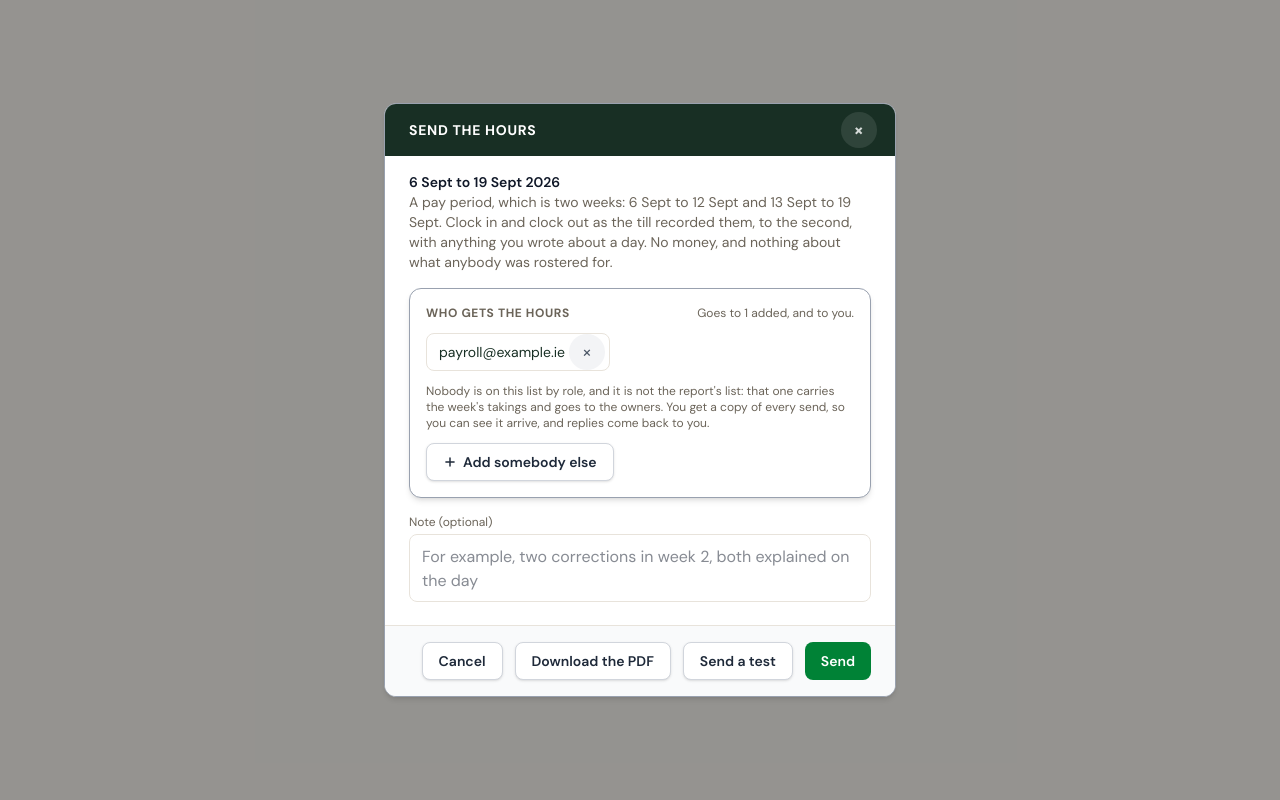
Test: keeping the list › shuts only the address box on Escape
Step 1. Click the button "Add somebody else" → (520, 462), box [426, 443, 614, 481]
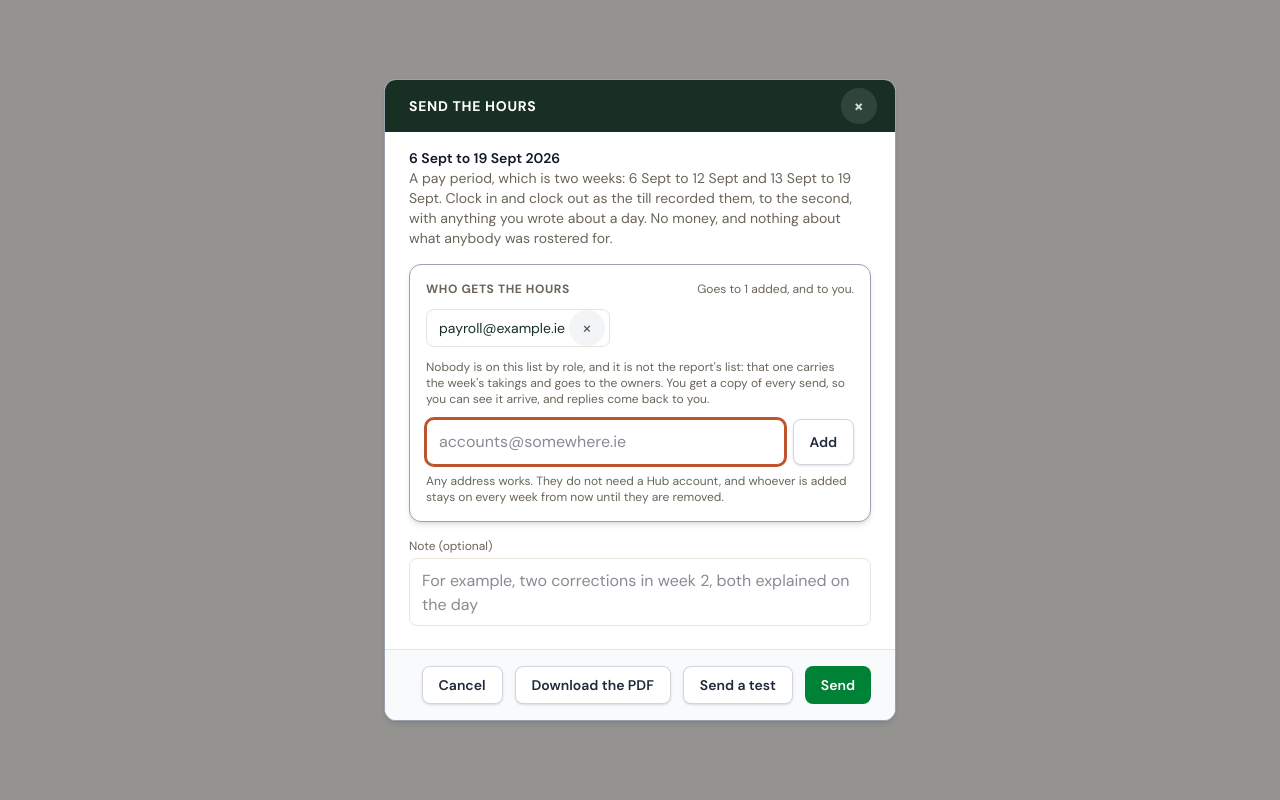
Step 2. Press Escape
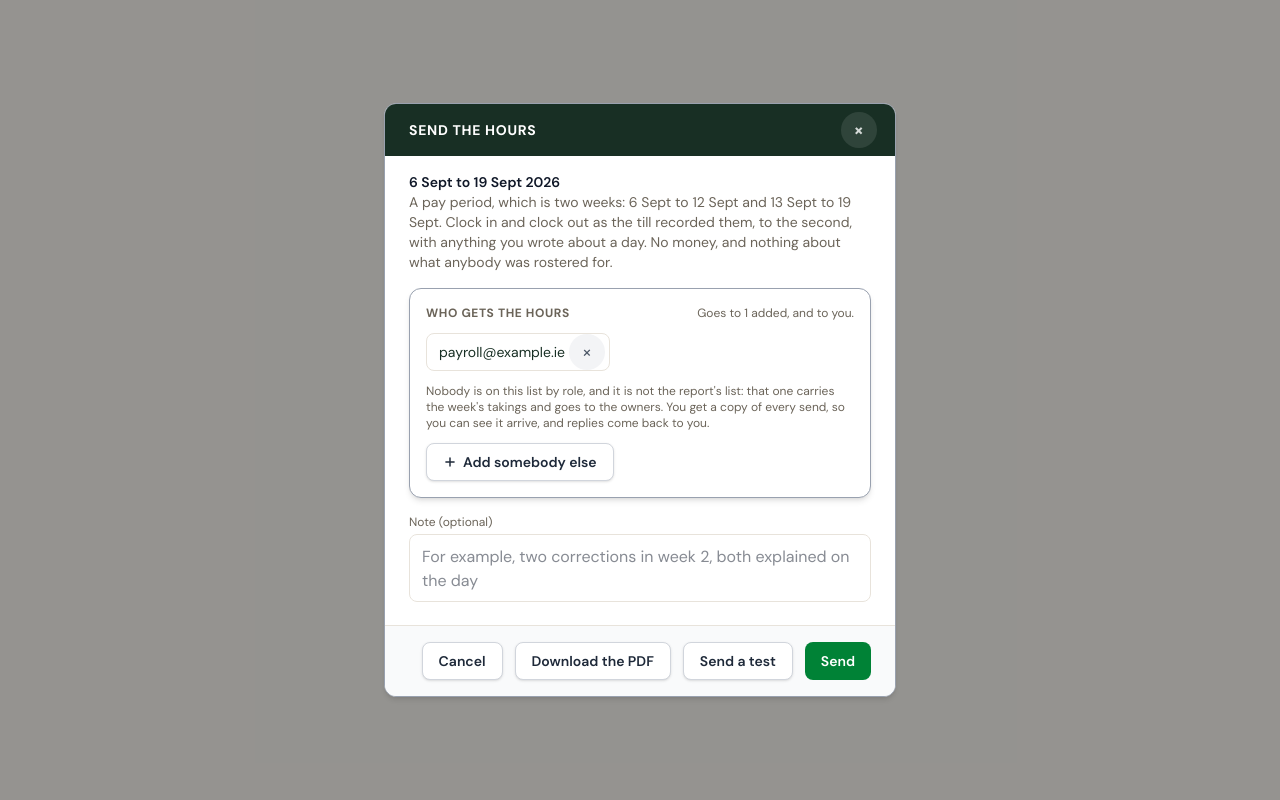
Expected: the button "Add somebody else" is shown, [426, 443, 614, 481]
